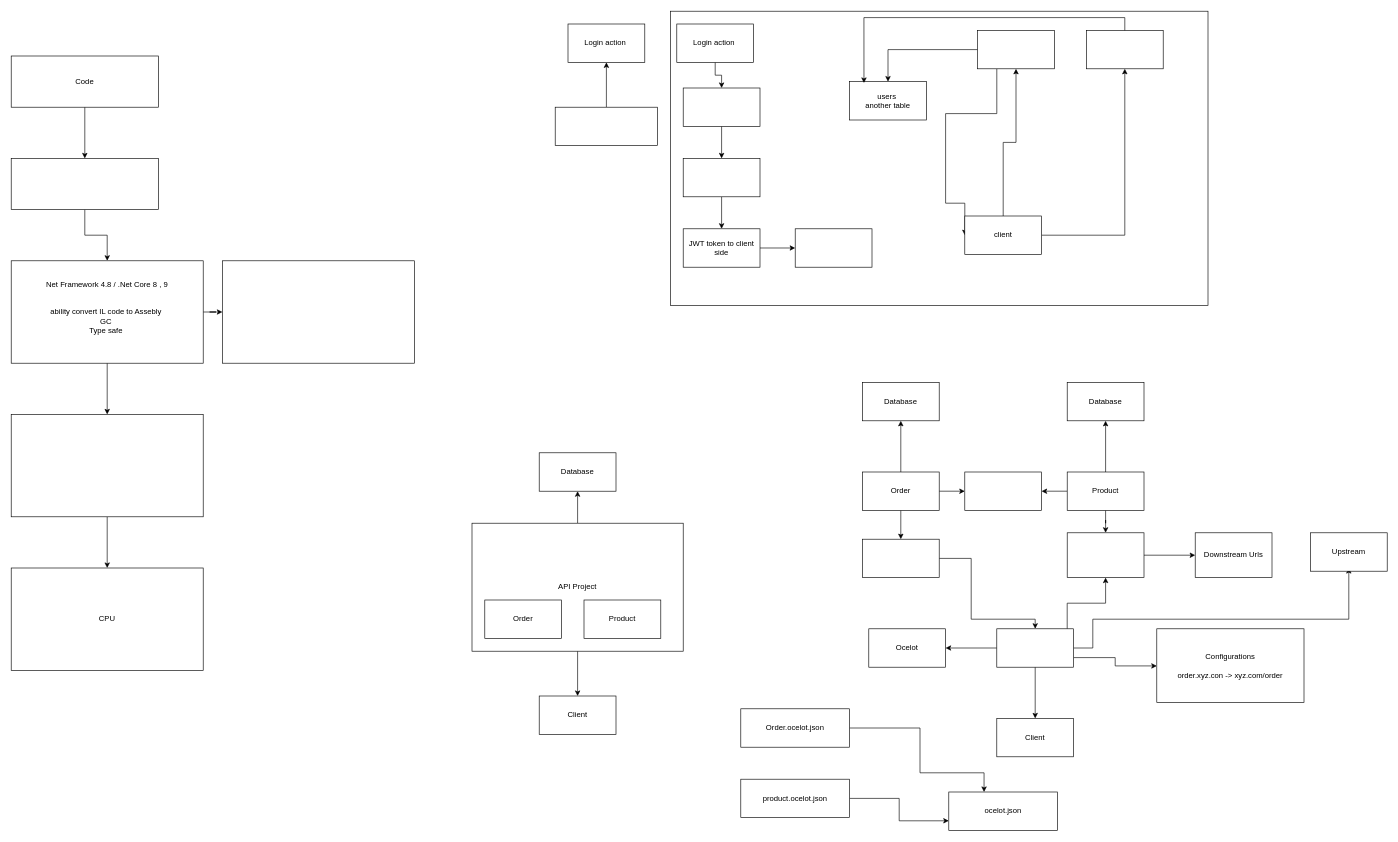
The diagram is 1398 pixels wide and 842 high, and some of its shapes have lost their labels. The box of each missing label's shape, as (x1, y1, x2, y2) in pixels:
Application A that stored In Database/ Memory: (555, 107, 658, 146)
Assembly Code: (11, 414, 203, 517)
Auth API: (683, 87, 760, 126)
gateway: (996, 628, 1074, 667)
Http Client: (964, 471, 1042, 510)
IL: (11, 158, 158, 210)
order.xyz.com: (862, 539, 939, 578)
Product.xy.com: (1067, 532, 1144, 578)
Return: (683, 158, 760, 197)
run the application in .net also to create: (222, 260, 414, 363)
Server A key - uiOp: (977, 30, 1054, 69)
Server B key -uiOp: (1086, 30, 1163, 69)
used for others apis: (795, 228, 872, 267)
